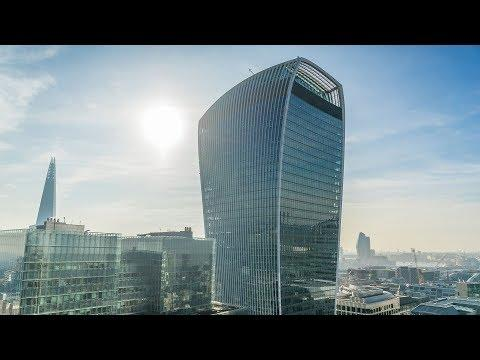Walkie talkie: (183, 55, 371, 310)
